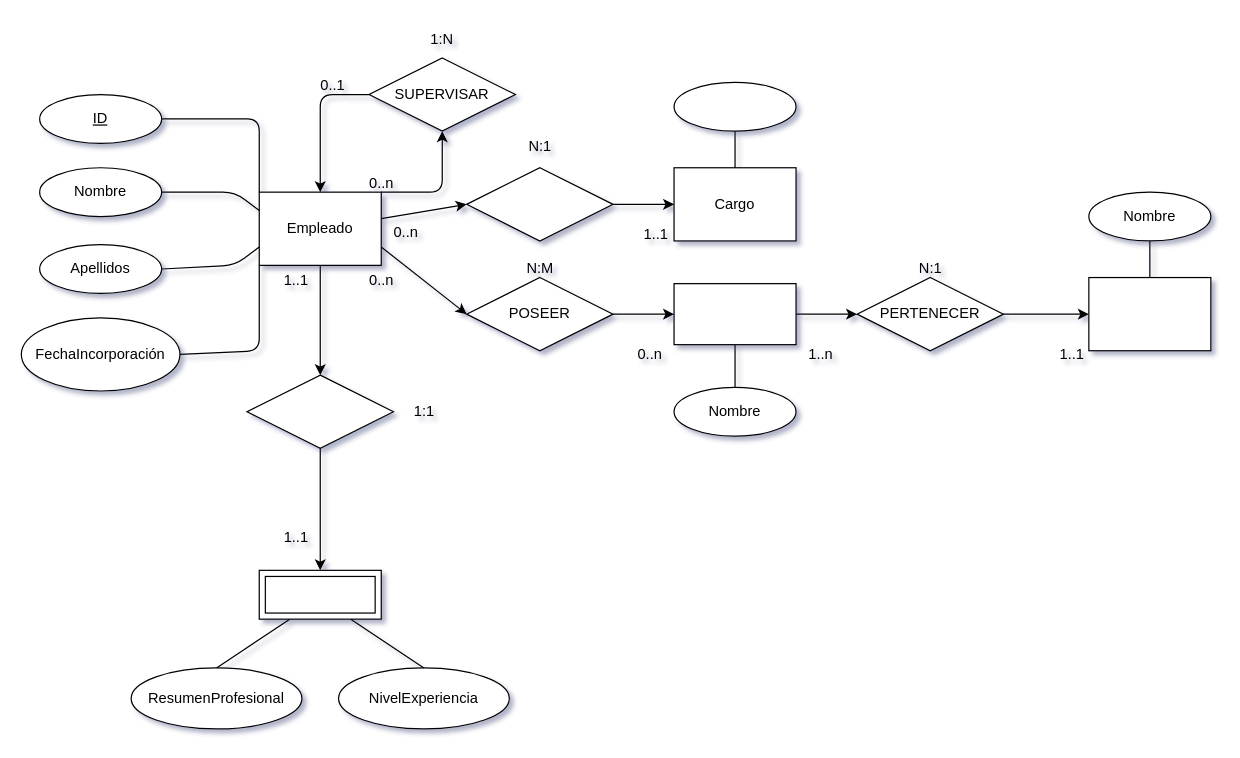
This 1240x758 diagram has some shape labels left out. The centre of each missing label's shape, as x and y in pixels:
Categoría: (x=1149, y=313)
CV: (x=319, y=594)
DISPONER: (x=319, y=411)
Habilidad Técnica: (x=734, y=313)
OCUPAR: (x=539, y=204)
Salario: (x=734, y=106)
